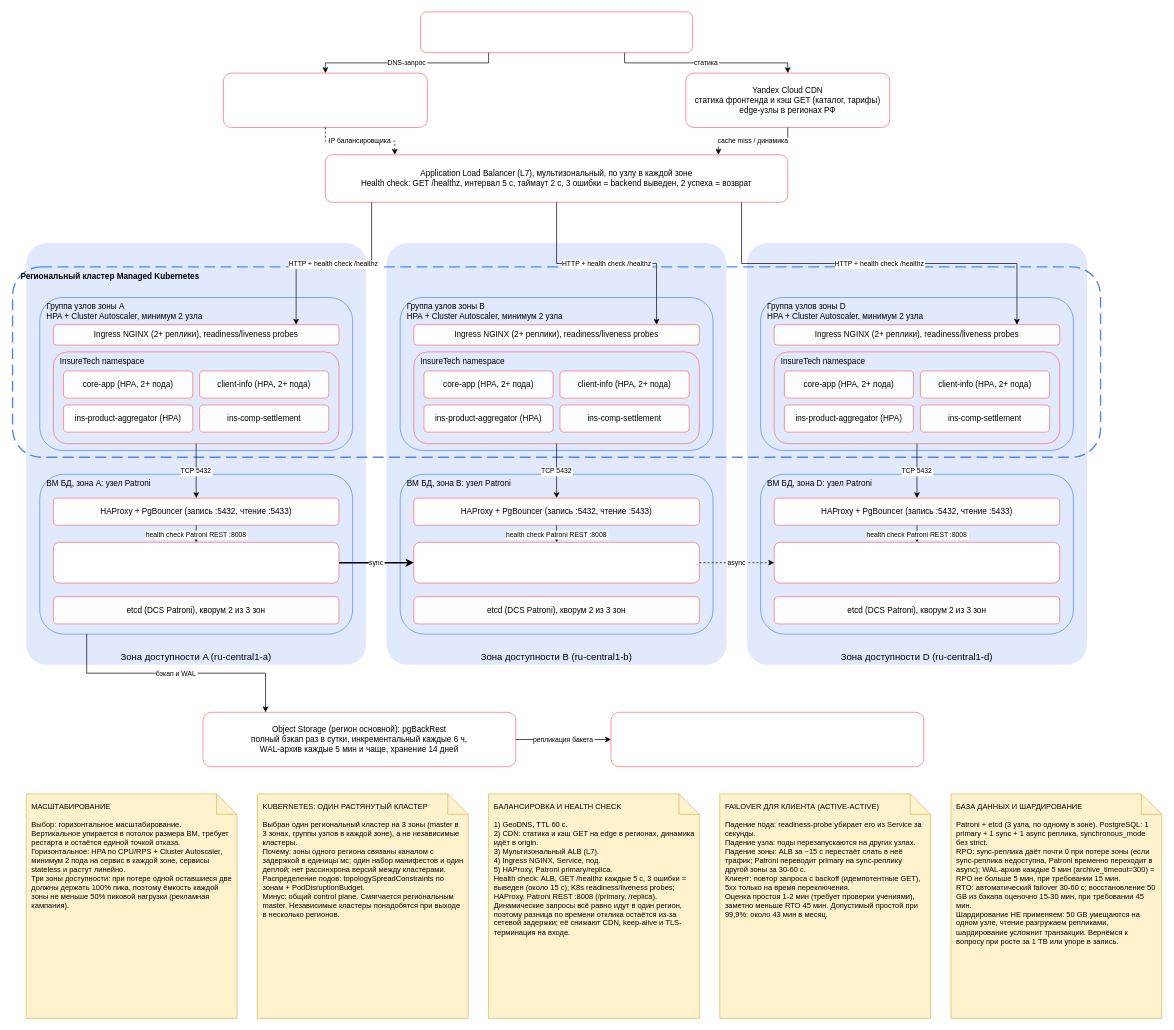
Image size: 1174x1030. Some labels were removed from this diagram. The centre of each missing label's shape, as x and y in pixels:
Object Storage (второй регион) копия бэкапов и WAL (защита от потери региона): the point at 767,739
PostgreSQL + Patroni ASYNC REPLICA (чтение, DR): the point at 917,562
PostgreSQL + Patroni PRIMARY: the point at 196,562
PostgreSQL + Patroni SYNC REPLICA (кандидат на failover): the point at 556,562
Yandex Cloud DNS (GeoDNS), TTL 60 с отдаёт IP ближайшего входа: the point at 325,100
Пользователи из всех часовых поясов РФ (браузеры, API партнёров): the point at 556,32
